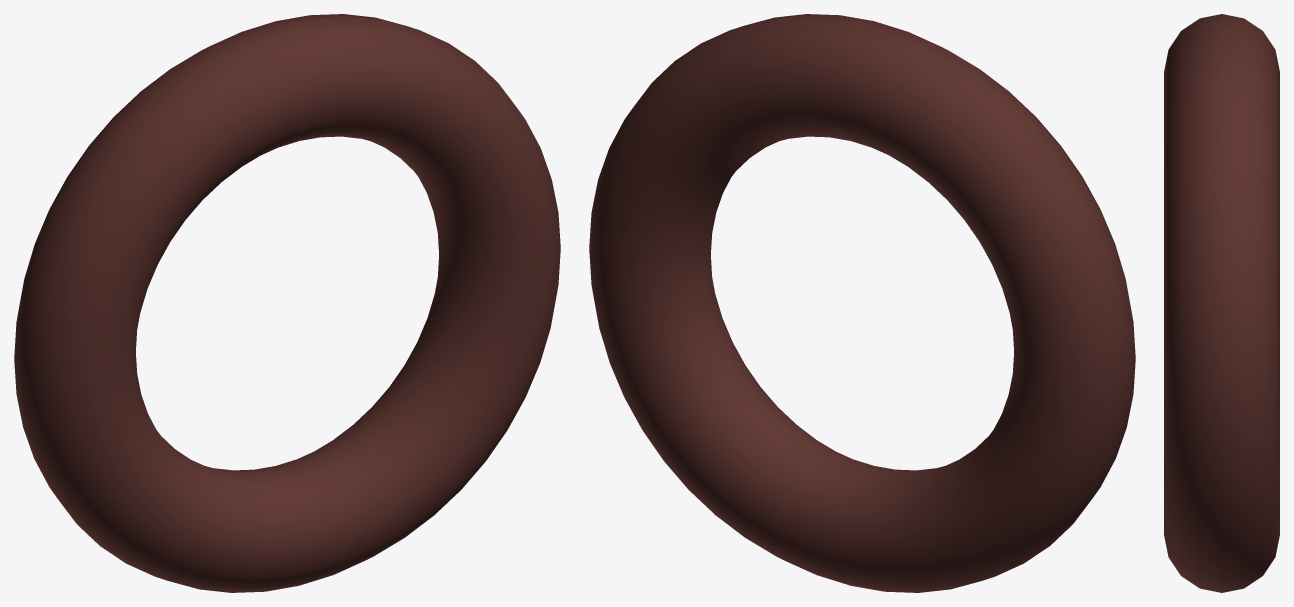
File: Planet_Torus.fbx
The picture shows the model from 3 angles, left to right: view 1: azimuth 30°, elevation 25°; view 2: azimuth 150°, elevation 25°; view 3: azimuth 270°, elevation 25°; orthographic projection. The views are drawn at different scales.
Parts seen in each view (by area): view 1: ForestPlanet_Ground.003; view 2: ForestPlanet_Ground.003; view 3: ForestPlanet_Ground.003.
Boxes of the visible parts, x1,y1,x2,y2 form: ForestPlanet_Ground.003: [14, 14, 560, 592]; ForestPlanet_Ground.003: [589, 14, 1135, 592]; ForestPlanet_Ground.003: [1164, 14, 1279, 592].
Bounding box in the file's own units: 250 × 250 × 50.
